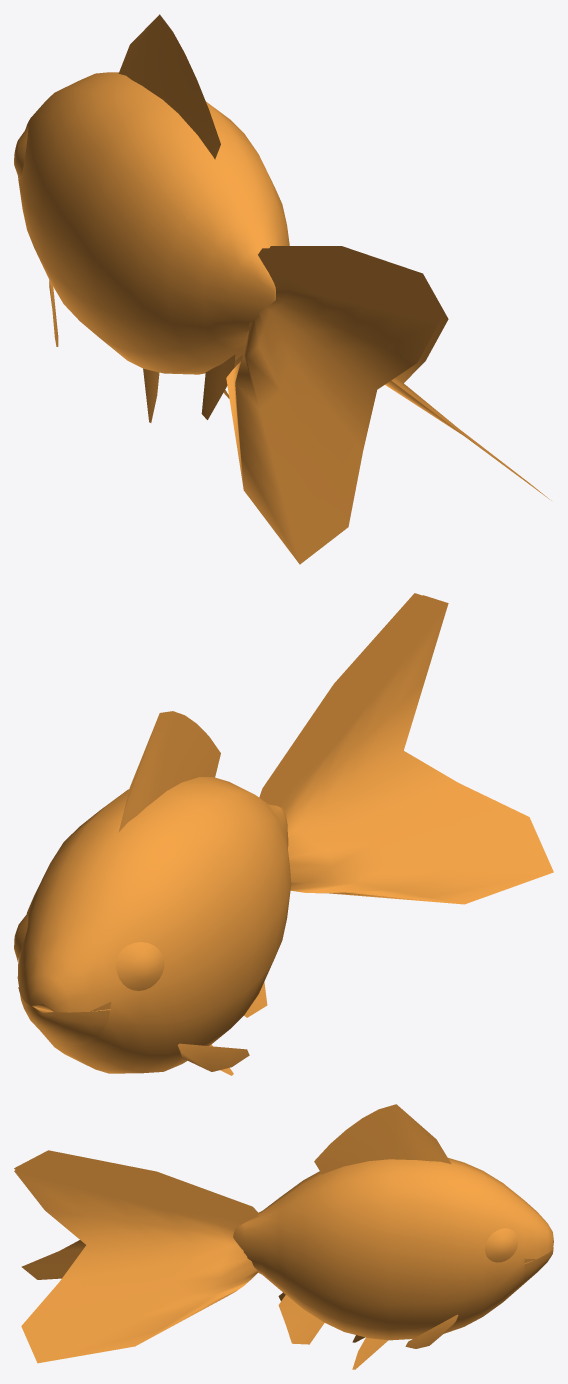
Rendered from goldfish_fantail_game.glb.
3 views of the same model, one above another, from view 1: azimuth 30°, elevation 25°; view 2: azimuth 150°, elevation 25°; view 3: azimuth 270°, elevation 25° (orthographic). The views are drawn at different scales.
Visible parts, largest first — view 1: goldfish_fantail_game; view 2: goldfish_fantail_game; view 3: goldfish_fantail_game.
Boxes of the visible parts, left/top/right/bottom form: goldfish_fantail_game: left=14, top=14, right=551, bottom=564; goldfish_fantail_game: left=14, top=593, right=553, bottom=1075; goldfish_fantail_game: left=14, top=1104, right=553, bottom=1369.
Size of the model in its own units: 0.0545 by 0.0769 by 0.1492.
